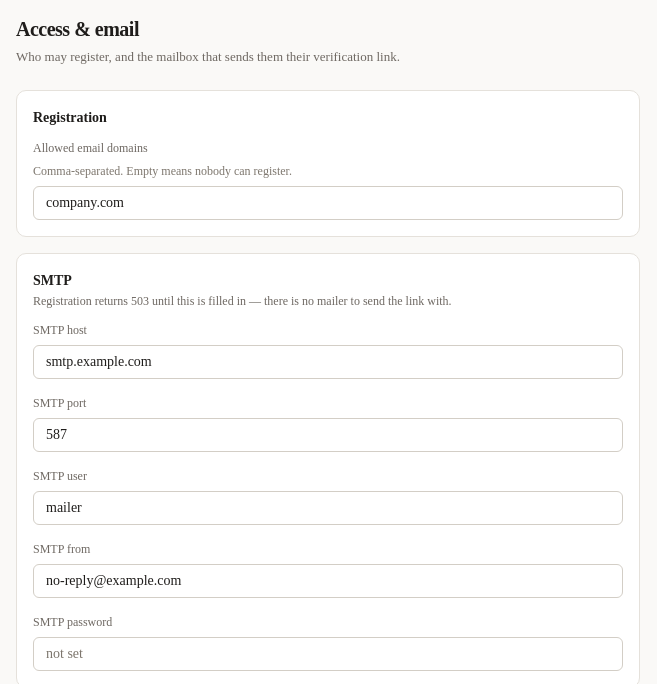
it: AccessForm › keeps the typed SMTP password when the save is rejected
Type "new-secret-1234" into the password field labelled "SMTP password". click: (328, 654)
box: [33,637,623,671]
(page scrolled)
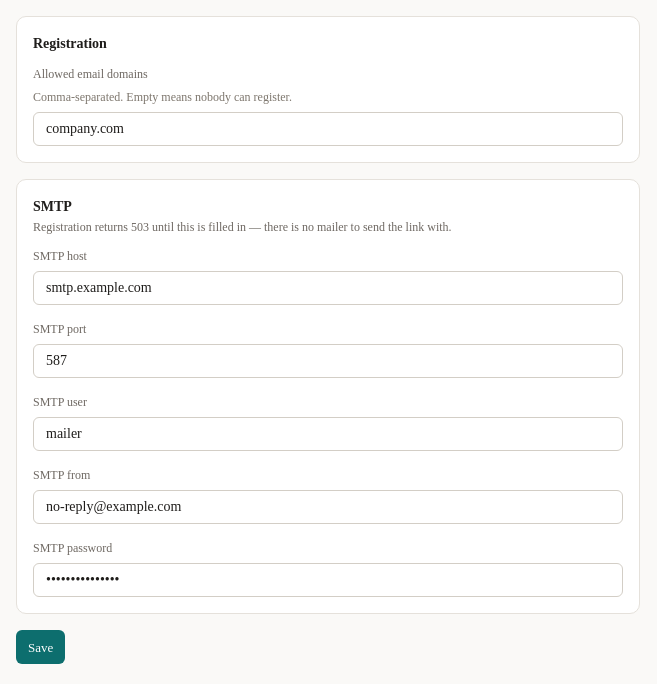
Click the button "Save". click: (41, 647)
box: [16,630,65,664]
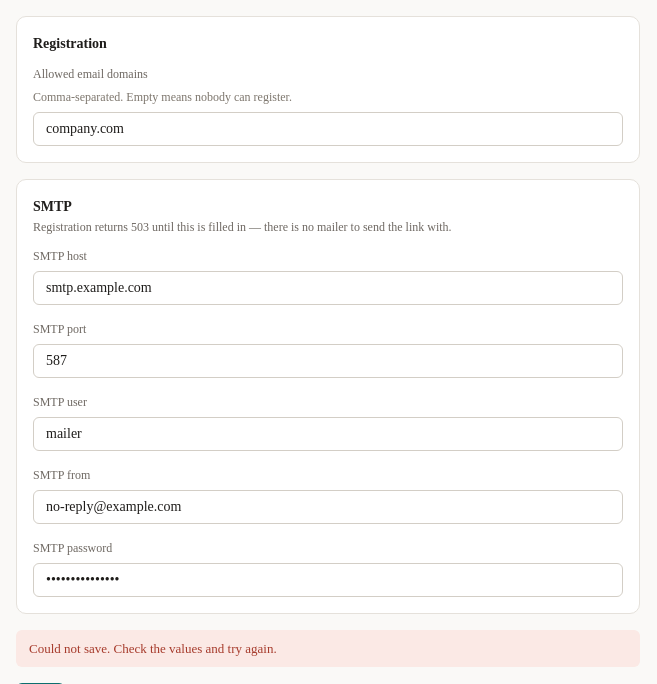
Check: the message shows "Could not save", box [29,641,277,656]
